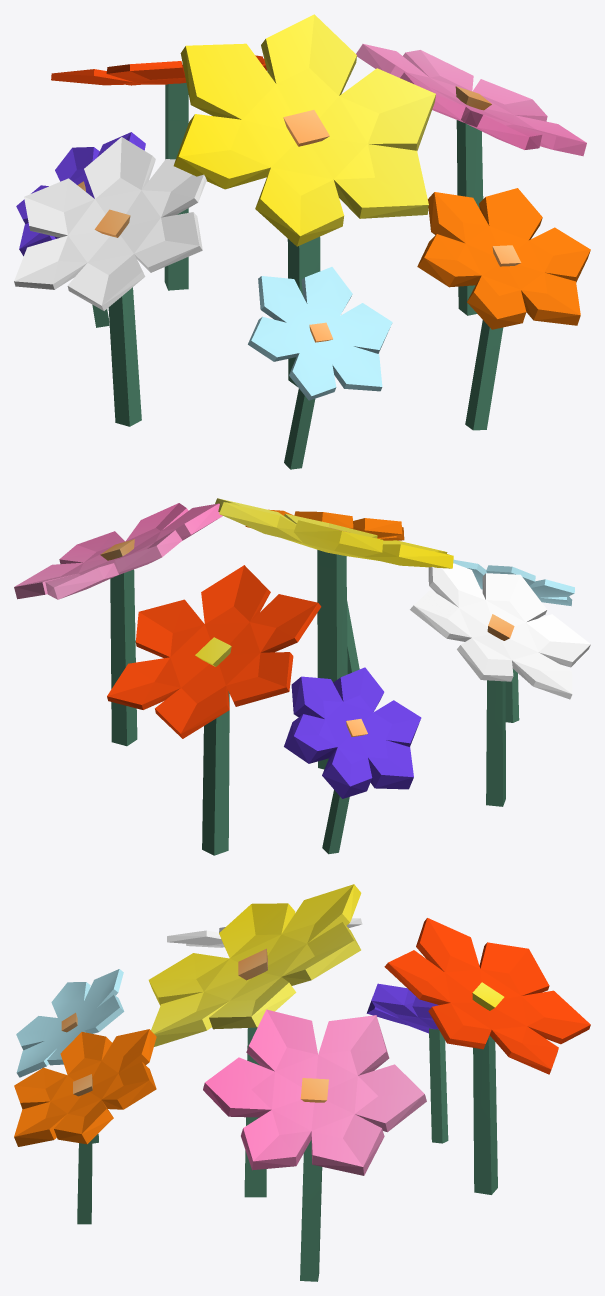
The model's file is Flower_Patch_01.fbx.
3 views of the same model, one above another, from view 1: azimuth 30°, elevation 25°; view 2: azimuth 150°, elevation 25°; view 3: azimuth 270°, elevation 25° (orthographic). The views are drawn at different scales.
Parts seen in each view (by area): view 1: Flower_Patch_01.001, Flower_Patch_01.004, Flower_Patch_01.010, Flower_Patch_01.006, Flower_Patch_01.002, Flower_Patch_01.005, Flower_Patch_01.011, Flower_Patch_01.003, Flower_Patch_01, Flower_Patch_01.008, Flower_Patch_01.009, Flower_Patch_01.012 (+1 smaller); view 2: Flower_Patch_01.008, Flower_Patch_01.004, Flower_Patch_01.012, Flower_Patch_01.002, Flower_Patch_01.001, Flower_Patch_01.009, Flower_Patch_01.003, Flower_Patch_01, Flower_Patch_01.005, Flower_Patch_01.006, Flower_Patch_01.010, Flower_Patch_01.013 (+2 smaller); view 3: Flower_Patch_01.002, Flower_Patch_01.001, Flower_Patch_01.008, Flower_Patch_01.010, Flower_Patch_01.006, Flower_Patch_01.009, Flower_Patch_01.003, Flower_Patch_01.012, Flower_Patch_01.013, Flower_Patch_01, Flower_Patch_01.011, Flower_Patch_01.004.
Boxes of the visible parts, box(x1,y1,x2,y2) form: Flower_Patch_01.001: box(173, 14, 435, 246); Flower_Patch_01.004: box(14, 137, 206, 310); Flower_Patch_01.010: box(417, 188, 590, 329); Flower_Patch_01.006: box(248, 267, 392, 400); Flower_Patch_01.002: box(356, 44, 586, 156); Flower_Patch_01.005: box(94, 209, 141, 426); Flower_Patch_01.011: box(465, 245, 521, 430); Flower_Patch_01.003: box(455, 86, 491, 315); Flower_Patch_01: box(283, 110, 329, 386); Flower_Patch_01.008: box(51, 55, 266, 85); Flower_Patch_01.009: box(164, 83, 188, 290); Flower_Patch_01.012: box(16, 132, 145, 256); Flower_Patch_01.008: box(107, 565, 321, 738); Flower_Patch_01.004: box(410, 563, 590, 699); Flower_Patch_01.012: box(284, 667, 421, 798); Flower_Patch_01.002: box(14, 503, 222, 599); Flower_Patch_01.001: box(215, 498, 453, 568); Flower_Patch_01.009: box(195, 637, 231, 855); Flower_Patch_01.003: box(100, 539, 137, 746); Flower_Patch_01: box(317, 526, 349, 769); Flower_Patch_01.005: box(486, 614, 514, 806); Flower_Patch_01.006: box(453, 559, 574, 606); Flower_Patch_01.010: box(245, 509, 404, 540); Flower_Patch_01.013: box(322, 719, 367, 854); Flower_Patch_01.002: box(203, 1009, 426, 1175); Flower_Patch_01.001: box(148, 884, 361, 1046); Flower_Patch_01.008: box(384, 918, 590, 1074); Flower_Patch_01.010: box(14, 1029, 156, 1146); Flower_Patch_01.006: box(16, 969, 124, 1077); Flower_Patch_01.009: box(472, 982, 504, 1194); Flower_Patch_01.003: box(300, 1078, 328, 1281); Flower_Patch_01.012: box(366, 983, 438, 1033); Flower_Patch_01.013: box(429, 1028, 448, 1143); Flower_Patch_01: box(238, 948, 267, 1197); Flower_Patch_01.011: box(73, 1074, 92, 1224); Flower_Patch_01.004: box(167, 918, 362, 947).
Bounding box in the file's own units: 0.9279 × 0.4911 × 0.9165.
